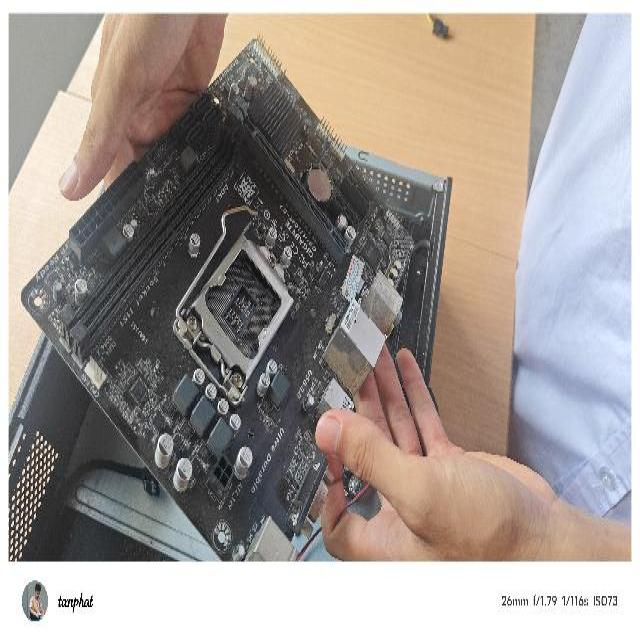Mainboard: (18, 34, 428, 561)
